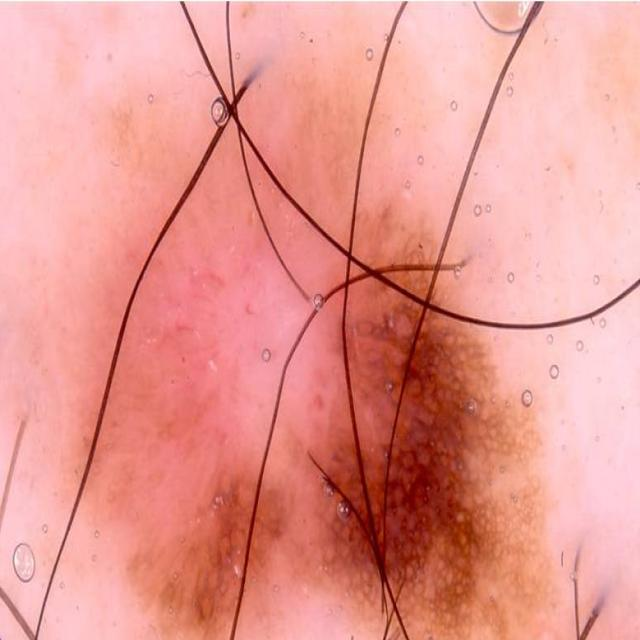Melanoma: (85, 206, 566, 640)
